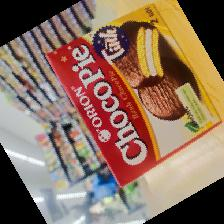Chocopie: (45, 3, 223, 188)
